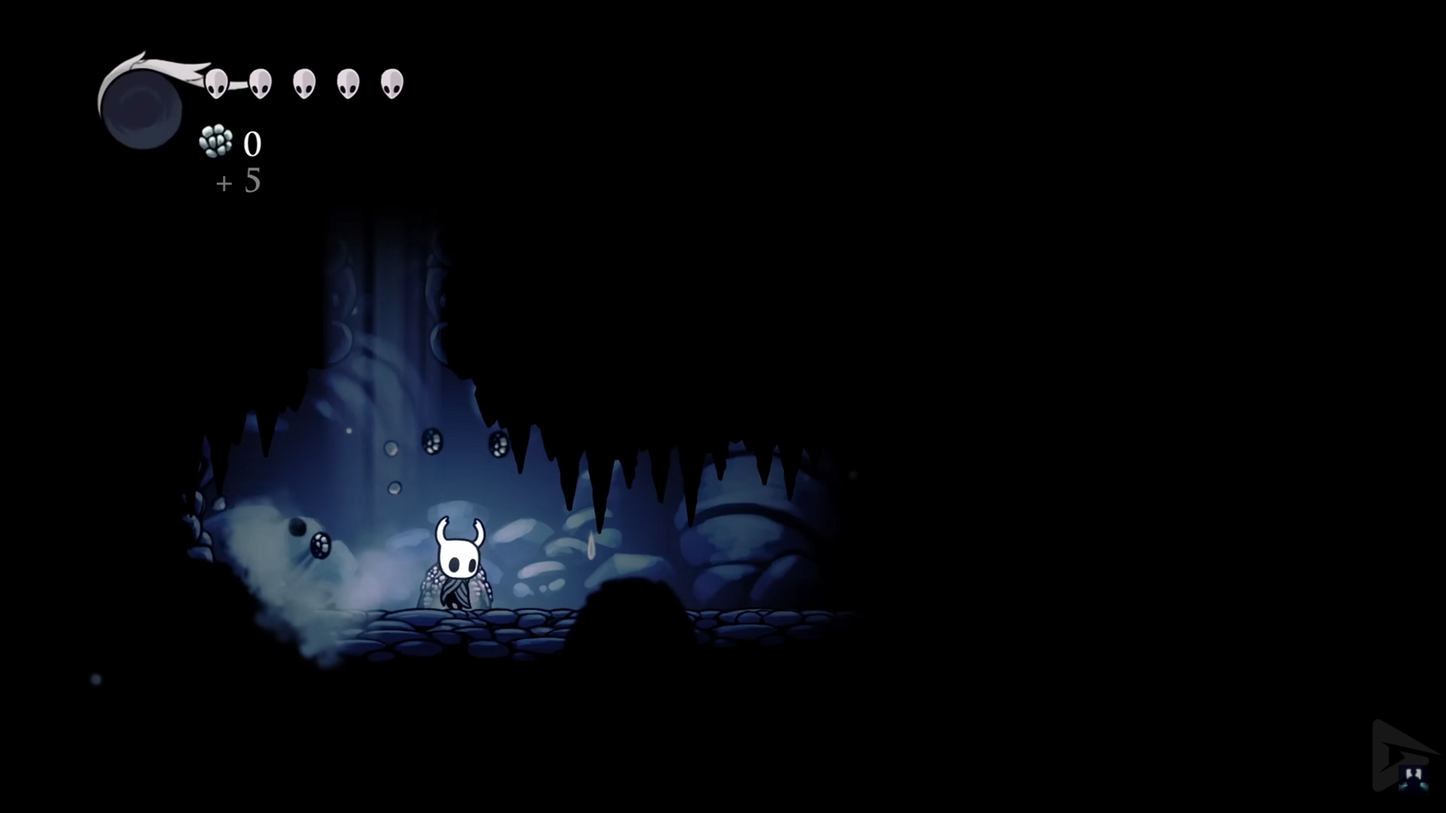HK: (426, 516, 495, 614)
